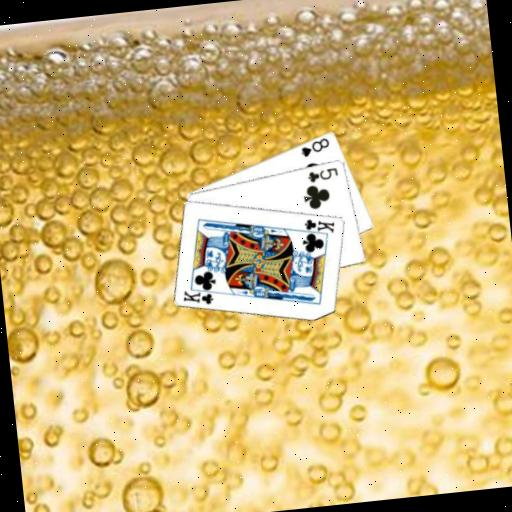5C: (304, 164, 341, 185)
8S: (297, 134, 333, 159)
KC: (179, 281, 220, 308), (296, 214, 337, 240)
